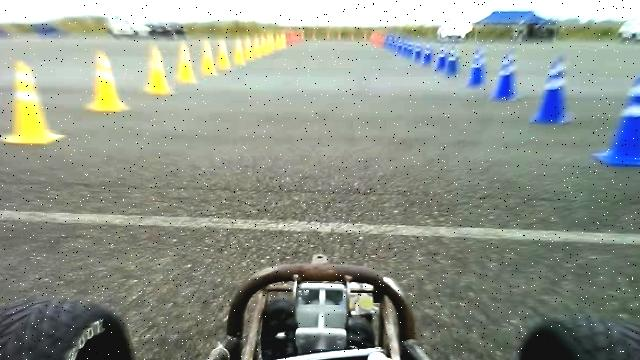blue cone: (593, 70, 640, 167), (530, 55, 572, 125), (490, 53, 518, 102), (466, 48, 486, 88), (446, 48, 458, 77)
yellow cone: (0, 59, 66, 144), (86, 49, 129, 112), (144, 48, 178, 94), (177, 41, 197, 84), (203, 39, 219, 75), (218, 40, 231, 70)
